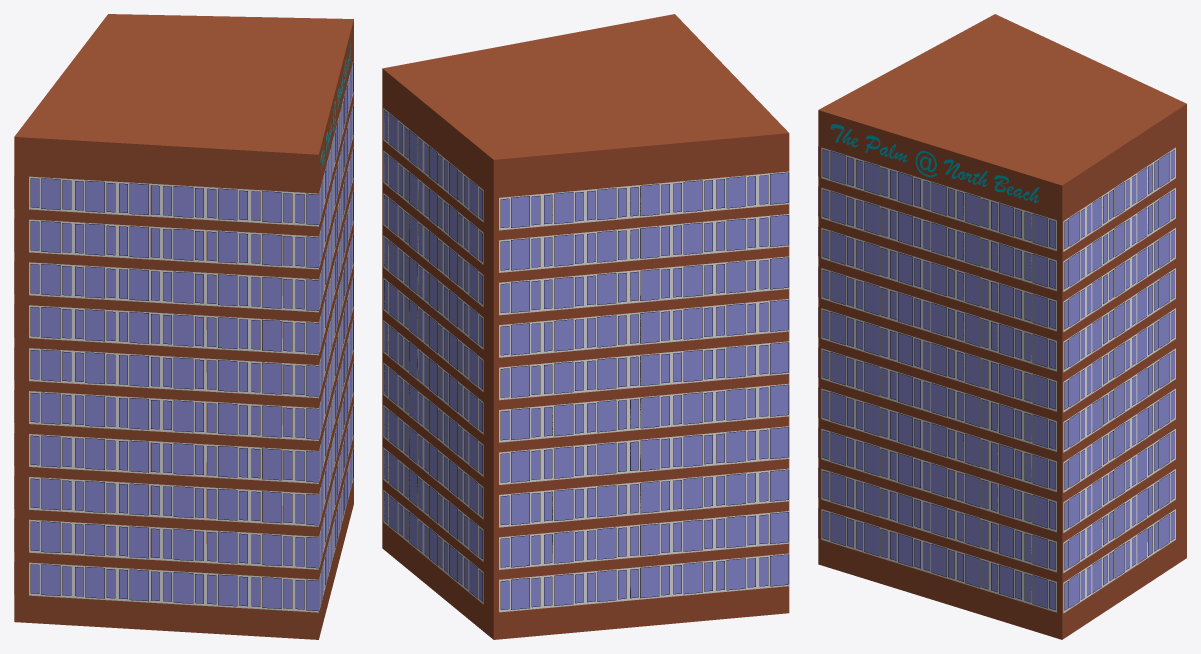
Rendered from ThePalm@NorthBeach.fbx.
3 renders of one model, left to right at view 1: azimuth 30°, elevation 25°; view 2: azimuth 150°, elevation 25°; view 3: azimuth 270°, elevation 25°, orthographic. The views are drawn at different scales.
Parts seen in each view (by area): view 1: ThePalm@NorthBeach; view 2: ThePalm@NorthBeach; view 3: ThePalm@NorthBeach.
Part boxes in pixels (x1,y1,x2,y2): ThePalm@NorthBeach: [14, 14, 353, 639]; ThePalm@NorthBeach: [382, 14, 789, 639]; ThePalm@NorthBeach: [818, 14, 1186, 639].
Bounding box in the file's own units: 2431 × 3000 × 2208.
